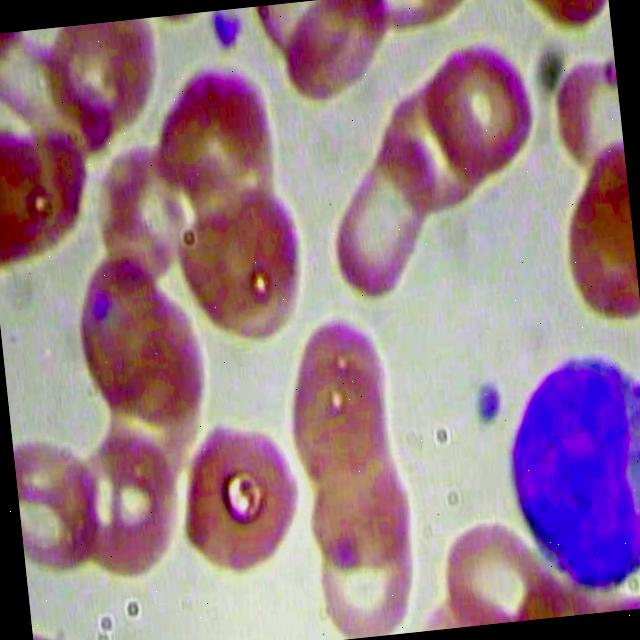Platelets: (465, 378, 510, 433), (205, 7, 245, 64)
RBC: (315, 126, 454, 320), (161, 185, 311, 358), (162, 408, 308, 580), (64, 418, 192, 588), (147, 61, 281, 217), (418, 29, 544, 186), (370, 65, 496, 222), (298, 436, 418, 576), (42, 16, 166, 145), (282, 349, 396, 489), (305, 506, 424, 640), (10, 424, 111, 578), (432, 511, 549, 628), (274, 0, 399, 105)
WBC: (491, 329, 640, 605)
